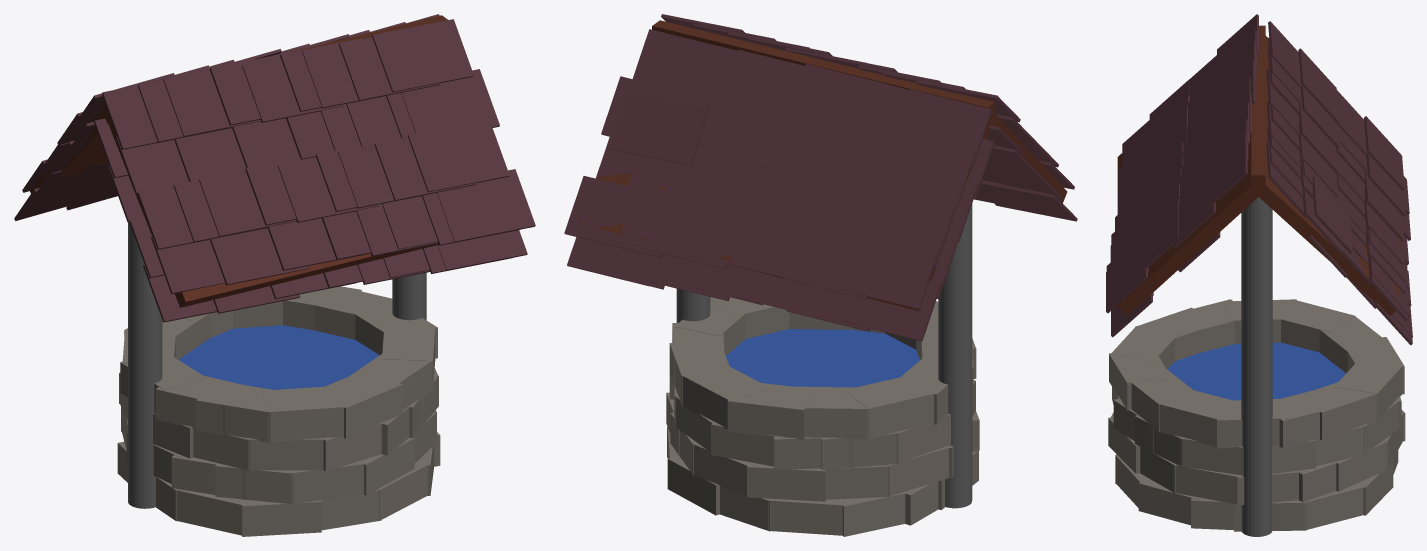
File: wellwellwell.dae
The picture shows the model from 3 angles, left to right: view 1: azimuth 30°, elevation 25°; view 2: azimuth 150°, elevation 25°; view 3: azimuth 270°, elevation 25°; orthographic projection. The views are drawn at different scales.
Parts seen in each view (by area): view 1: Cylinder, Cylinder.001, Cube.095, Cube.078, Cube.104, Cube.409, Cube.087, Cube.408, Cube.410, Cube.098, Cube.072, Cube.089 (+73 smaller); view 2: Cylinder, Cylinder.001, Cube.131, Cube.114, Cube.120, Cube.105, Cube.122, Cube.399, Cube.397, Cube.133, Cube.116, Cube.132 (+66 smaller); view 3: Cylinder.002, Cylinder, Cube.001, Cube, Cube.412, Cube.395, Cube.399, Cube.396, Cube.253, Cube.002, Cube.295, Cube.078 (+86 smaller).
Part boxes in pixels (bbox=[...]): Cylinder: bbox=[178, 325, 379, 389]; Cylinder.001: bbox=[128, 222, 162, 508]; Cube.095: bbox=[408, 119, 509, 192]; Cube.078: bbox=[371, 19, 473, 92]; Cube.104: bbox=[437, 169, 535, 242]; Cube.409: bbox=[261, 385, 347, 442]; Cube.087: bbox=[401, 69, 499, 133]; Cube.408: bbox=[196, 380, 272, 442]; Cube.410: bbox=[325, 369, 402, 438]; Cube.098: bbox=[210, 228, 308, 285]; Cube.072: bbox=[163, 70, 260, 136]; Cube.089: bbox=[199, 170, 296, 236]; Cylinder: bbox=[726, 329, 919, 387]; Cylinder.001: bbox=[938, 204, 972, 508]; Cube.131: bbox=[837, 230, 938, 309]; Cube.114: bbox=[874, 131, 975, 209]; Cube.120: bbox=[609, 90, 709, 165]; Cube.105: bbox=[895, 89, 992, 167]; Cube.122: bbox=[858, 188, 955, 267]; Cube.399: bbox=[844, 374, 937, 439]; Cube.397: bbox=[727, 383, 817, 440]; Cube.133: bbox=[729, 206, 830, 277]; Cube.116: bbox=[766, 106, 866, 176]; Cube.132: bbox=[784, 221, 867, 299]; Cylinder.002: bbox=[1241, 197, 1272, 536]; Cylinder: bbox=[1167, 342, 1345, 400]; Cube.001: bbox=[1117, 134, 1267, 315]; Cube: bbox=[1259, 36, 1400, 315]; Cube.412: bbox=[1158, 387, 1241, 446]; Cube.395: bbox=[1293, 382, 1378, 440]; Cube.399: bbox=[1272, 299, 1354, 352]; Cube.396: bbox=[1334, 358, 1402, 421]; Cube.253: bbox=[1304, 482, 1365, 530]; Cube.002: bbox=[1251, 25, 1265, 186]; Cube.295: bbox=[1173, 464, 1241, 504]; Cube.078: bbox=[1205, 133, 1247, 209].
Size of what is drawn, in the model's own units: 2.69 by 2.17 by 2.97.
